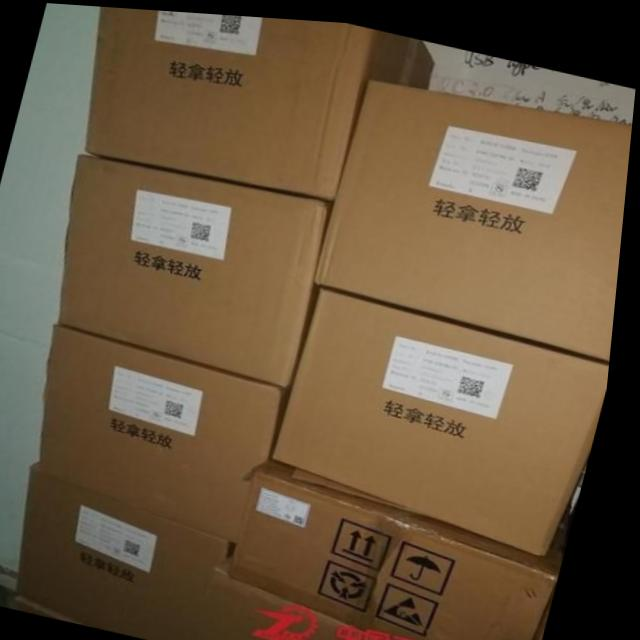box: (280, 282, 616, 549), (319, 74, 634, 354), (88, 5, 435, 199), (239, 451, 577, 640), (63, 152, 334, 386), (47, 323, 295, 540), (28, 460, 244, 640), (208, 555, 412, 640)
